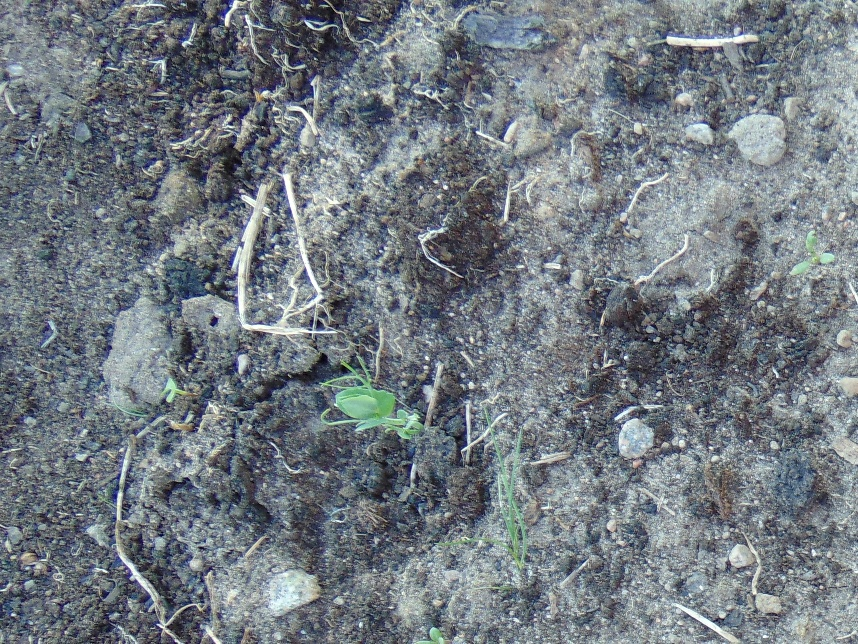crop: (322, 357, 431, 442)
weed: (498, 471, 540, 585), (789, 226, 840, 279)
